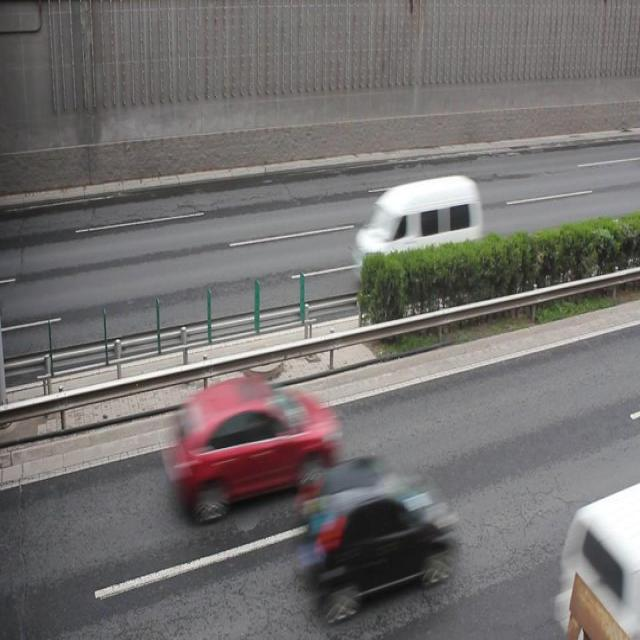car: (167, 375, 338, 517), (298, 456, 452, 613)
truck: (351, 174, 482, 286)
